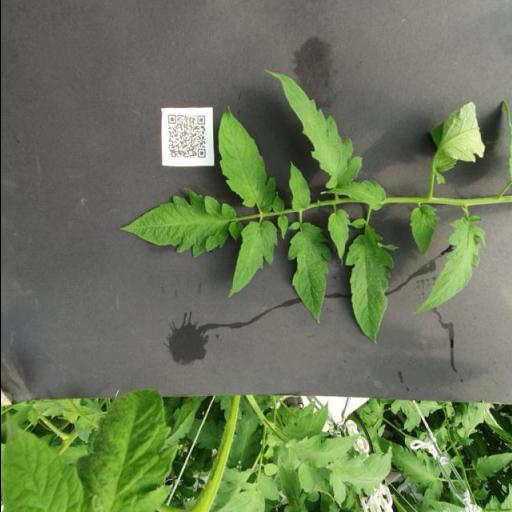Healthy: (264, 70, 362, 188), (124, 188, 242, 259), (415, 215, 488, 313), (344, 218, 400, 344), (216, 108, 276, 214), (286, 222, 330, 326), (226, 220, 276, 298), (326, 209, 350, 266), (288, 160, 310, 210)
